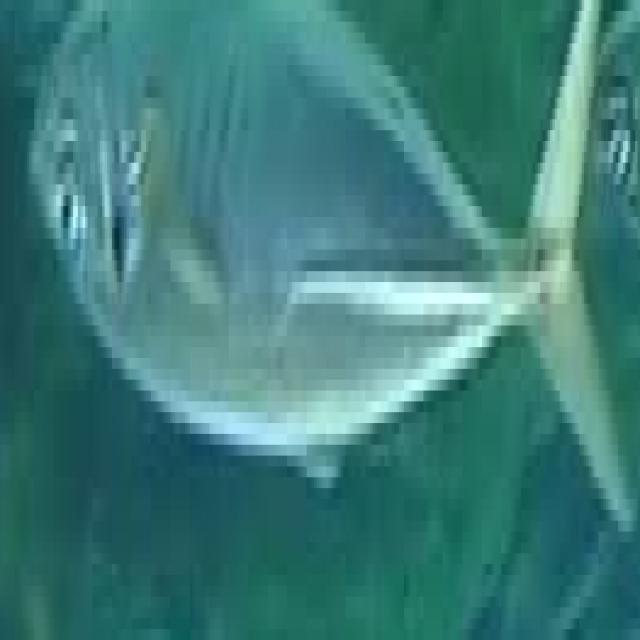fish: (2, 0, 640, 629)
